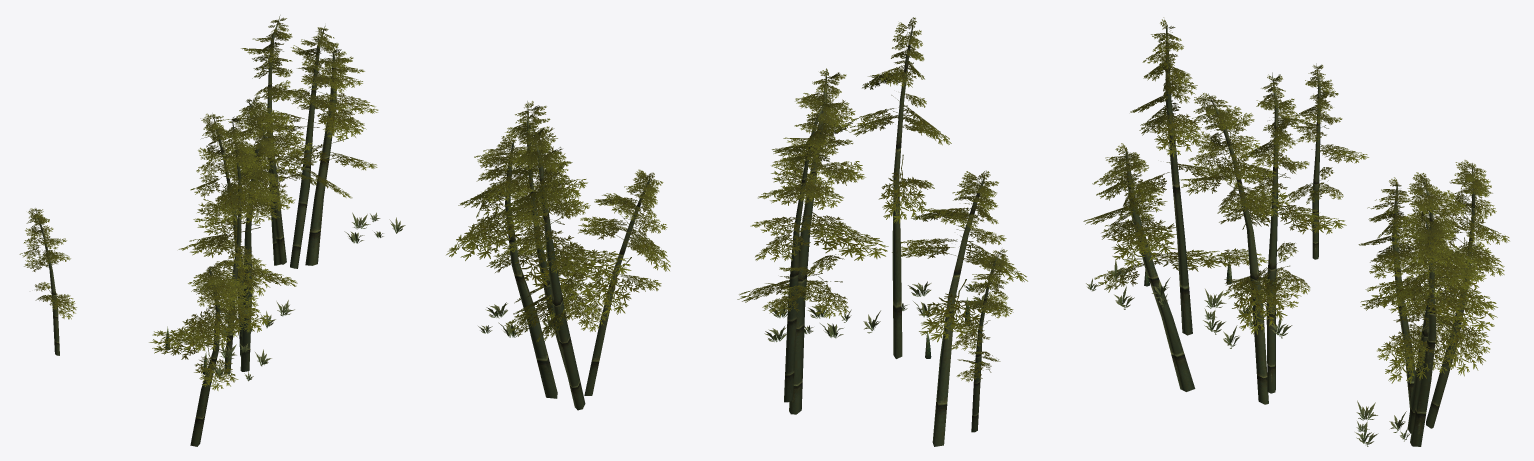
Rendered from Area_13_25.fbx.
3 renders of one model, left to right at view 1: azimuth 30°, elevation 25°; view 2: azimuth 150°, elevation 25°; view 3: azimuth 270°, elevation 25°, orthographic. The views are drawn at different scales.
Visible parts, largest first — view 1: Area_13_25; view 2: Area_13_25; view 3: Area_13_25.
Boxes of the visible parts, <box> form: Area_13_25: <box>19,15,405,446</box>; Area_13_25: <box>446,17,1027,446</box>; Area_13_25: <box>1083,17,1509,446</box>.
Bounding box in the file's own units: 2578 × 1990 × 2067.
